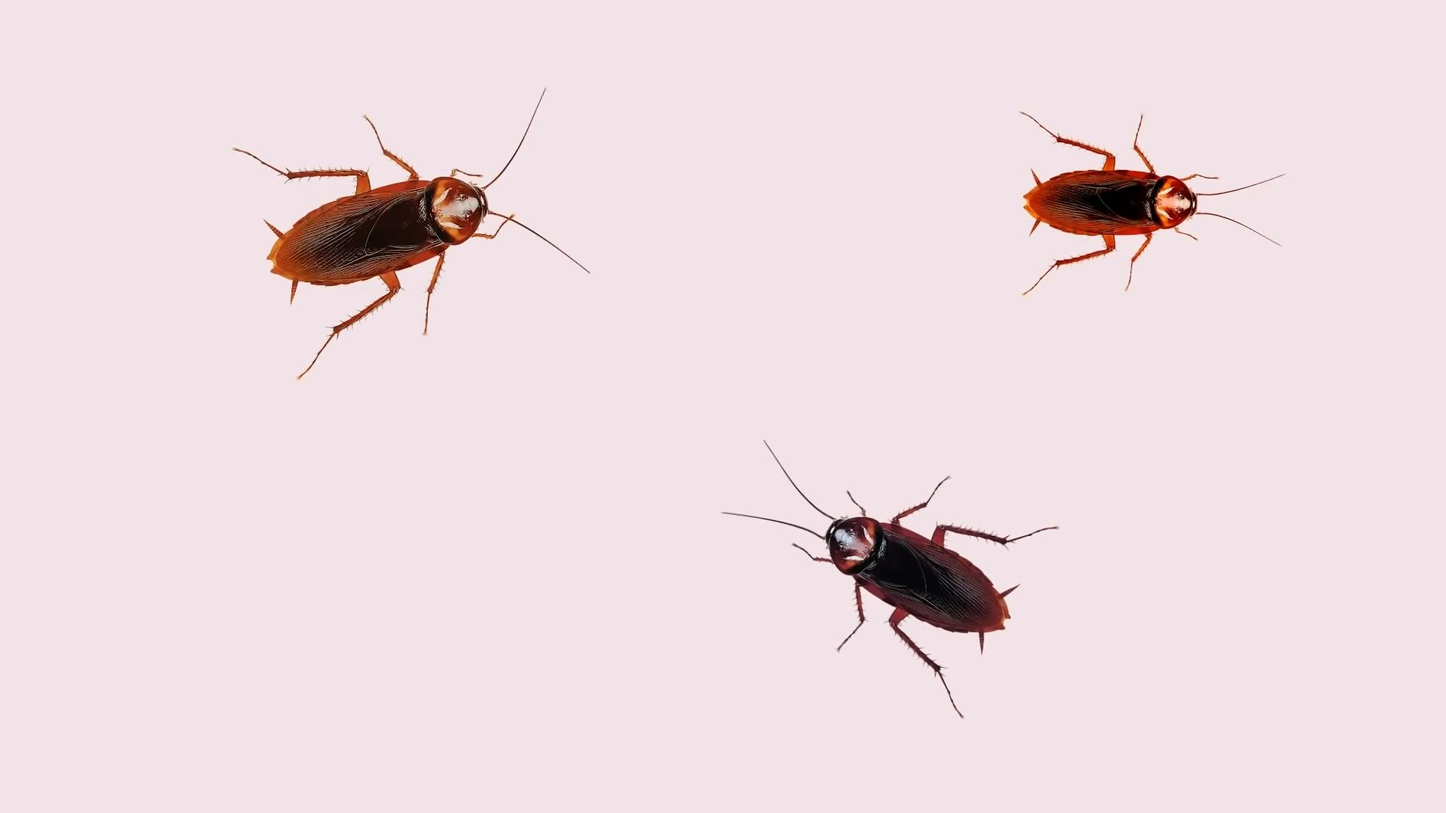cockroach: (214, 87, 589, 374), (710, 432, 1064, 705), (997, 94, 1287, 295)
